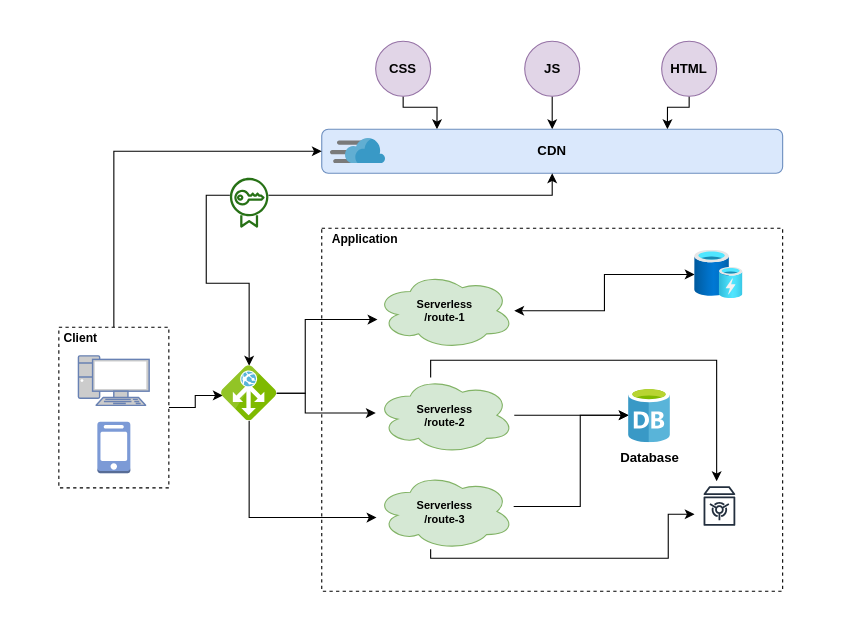
The diagram is 851 pixels wide and 642 high, and some of its shapes have lost their labels. Here are the shapes that lost their labels. From the top down, the centre of each, then its label:
point (248, 202): Certificates
point (718, 274): Cache
point (248, 392): API Gateway
point (719, 505): Key Vault
